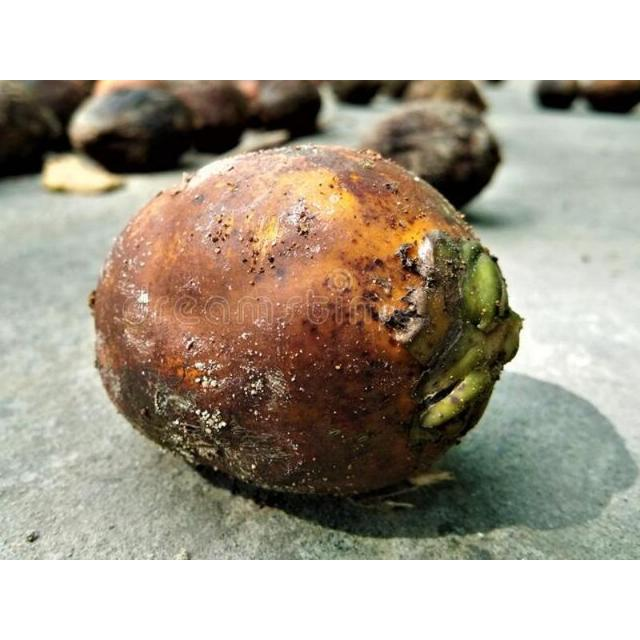damaged: (89, 146, 525, 506)
